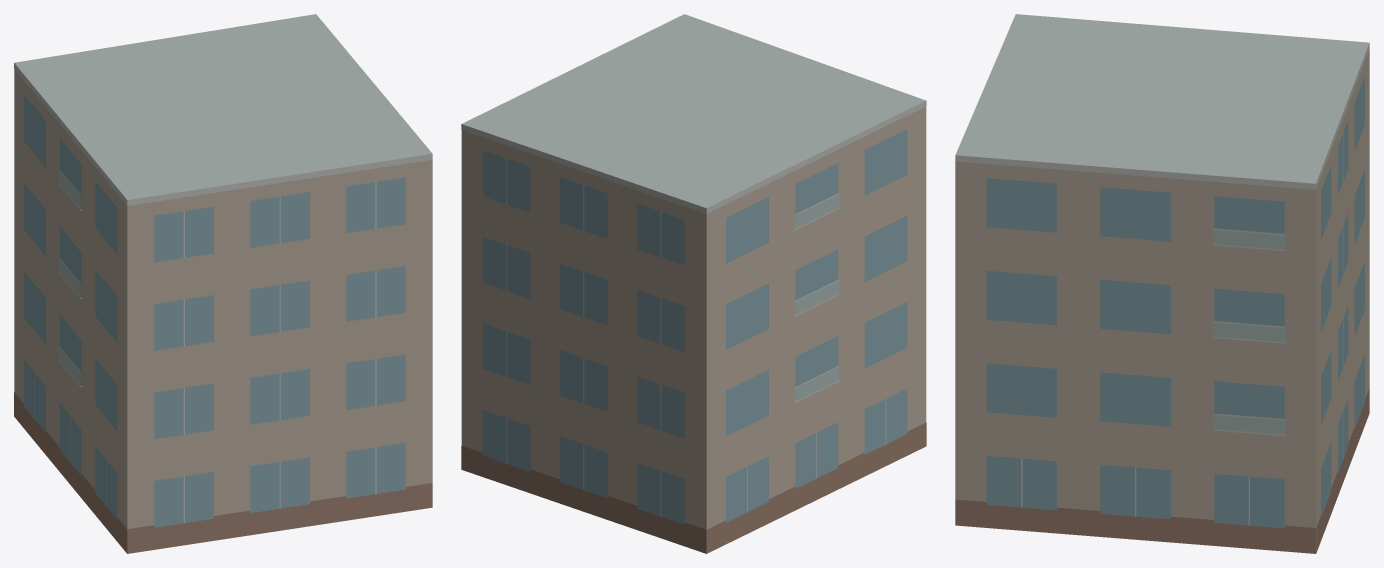
Rendered from survey-upis-32675976.glb.
3 renders of one model, left to right at view 1: azimuth 30°, elevation 25°; view 2: azimuth 150°, elevation 25°; view 3: azimuth 270°, elevation 25°, orthographic. The views are drawn at different scales.
Parts seen in each view (by area): view 1: survey-upis-32675976.tmp; view 2: survey-upis-32675976.tmp; view 3: survey-upis-32675976.tmp.
Boxes of the visible parts, bbox=[...] form: survey-upis-32675976.tmp: bbox=[14, 14, 432, 553]; survey-upis-32675976.tmp: bbox=[461, 14, 926, 553]; survey-upis-32675976.tmp: bbox=[955, 14, 1369, 553].
Size of the model in its own units: 14.36 by 14.6 by 14.82.
